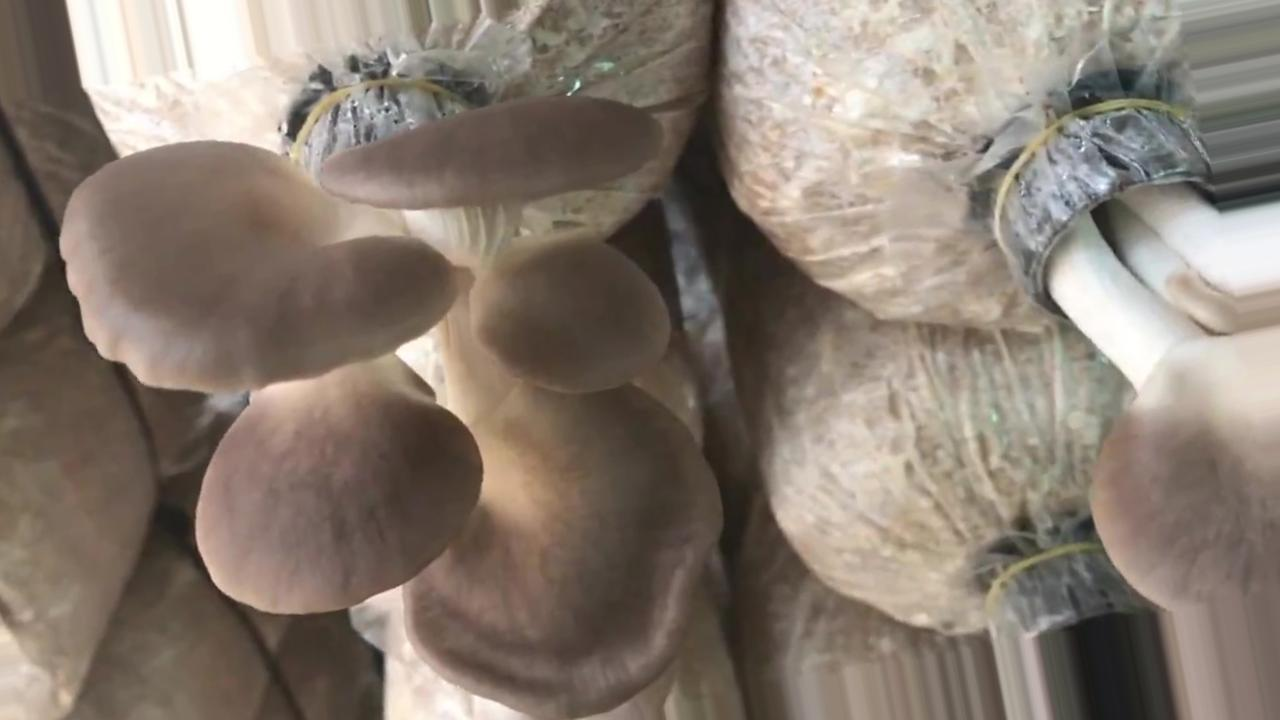nam: (60, 82, 724, 716), (998, 101, 1279, 609)
